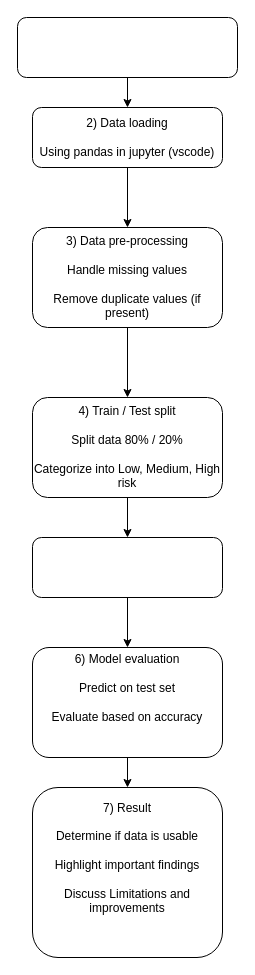
Image size: 255x975. Some labels were removed from this diagram. The shapes that lost their labels are listed below. From the top down, each one's centre as x and y in pixels, then its label:
At pixel 127 47: "1) Dataset collection Kaggle Using ai_impact_jobs_2010_2025.csv".
At pixel 127 567: "5) Model training Random forest".
